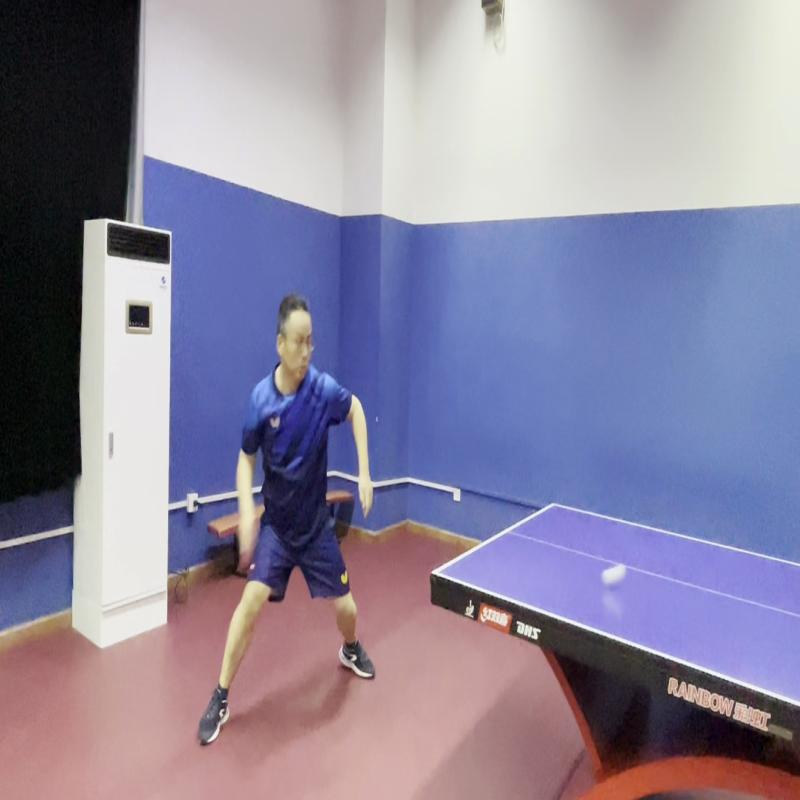bats: (237, 516, 266, 572)
